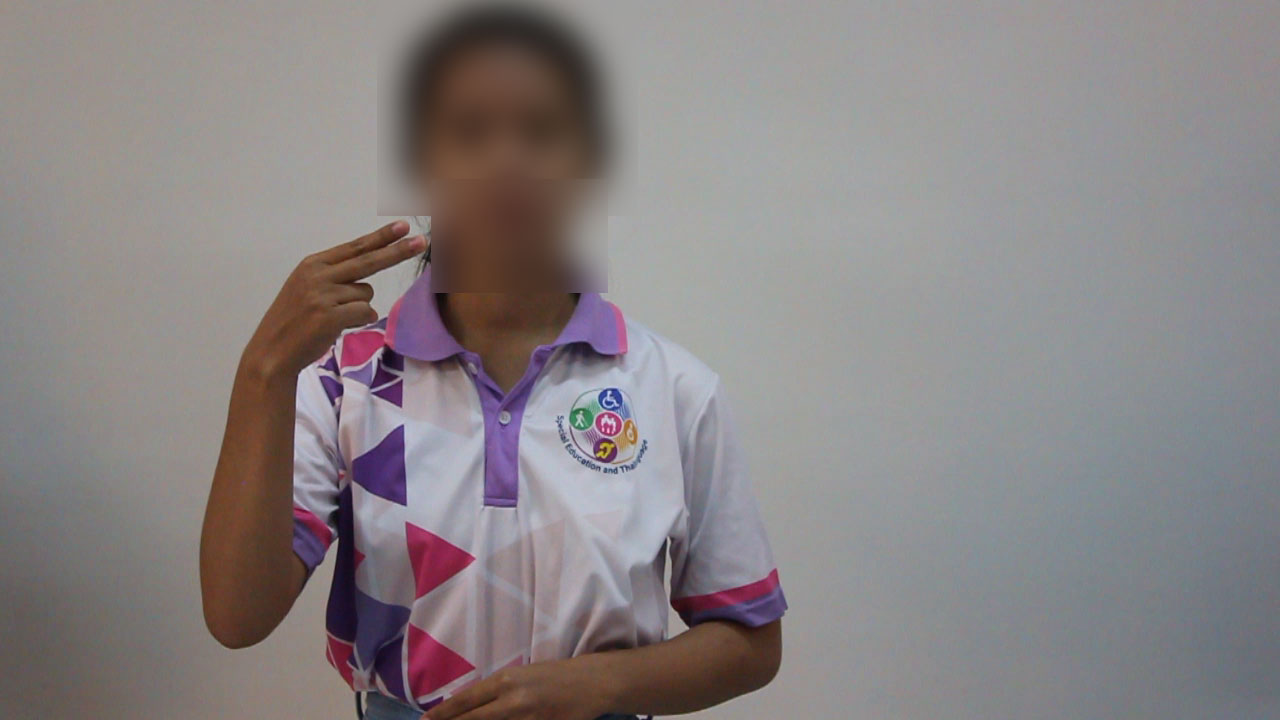hor: (242, 213, 444, 383)
